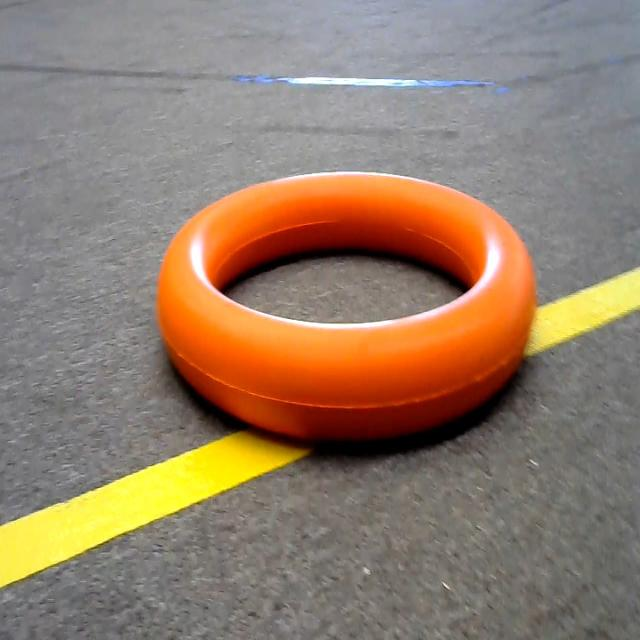note: (146, 153, 546, 473)
